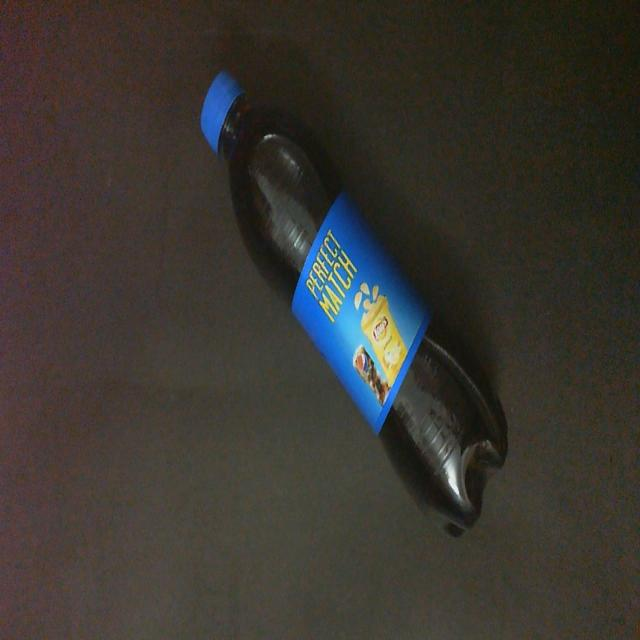non-defect: (198, 67, 512, 543)
